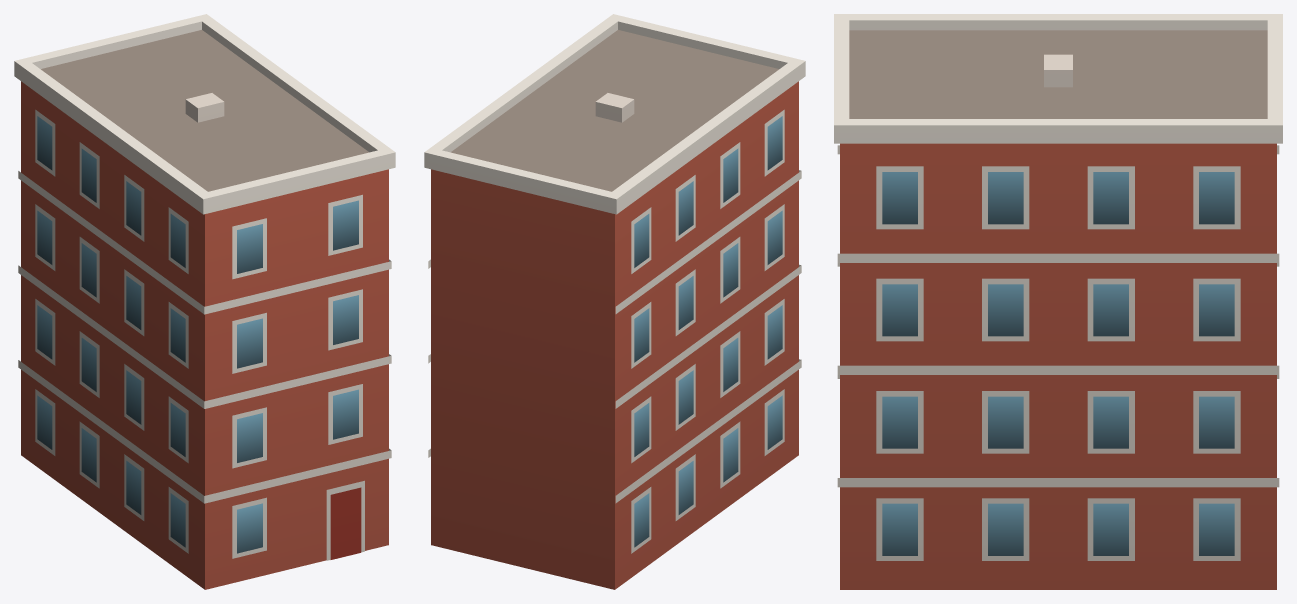
File: vee_leftbb3_far.glb
3 renders of one model, left to right at view 1: azimuth 30°, elevation 25°; view 2: azimuth 150°, elevation 25°; view 3: azimuth 270°, elevation 25°, orthographic. The views are drawn at different scales.
Parts seen in each view (by area): view 1: vee_leftbb3_far; view 2: vee_leftbb3_far; view 3: vee_leftbb3_far.
Part boxes in pixels (<box>): vee_leftbb3_far: <box>14,14,395,589</box>; vee_leftbb3_far: <box>424,14,805,589</box>; vee_leftbb3_far: <box>834,14,1282,589</box>.
Bounding box in the file's own units: 7.24 × 14.37 × 12.32.
1 material, 1 textured.
